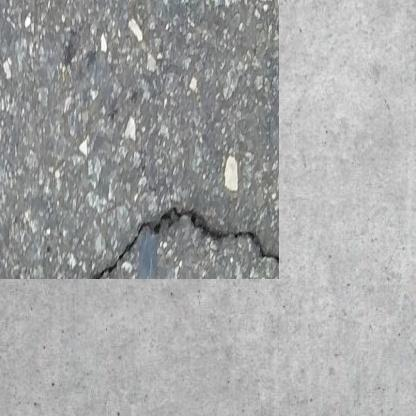Cracks: (75, 189, 258, 258)
